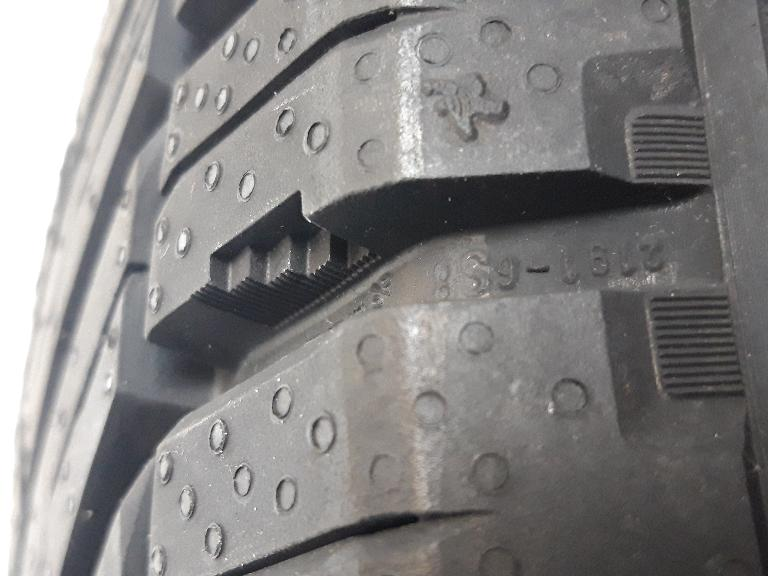temoin:100: (189, 189, 386, 335)
